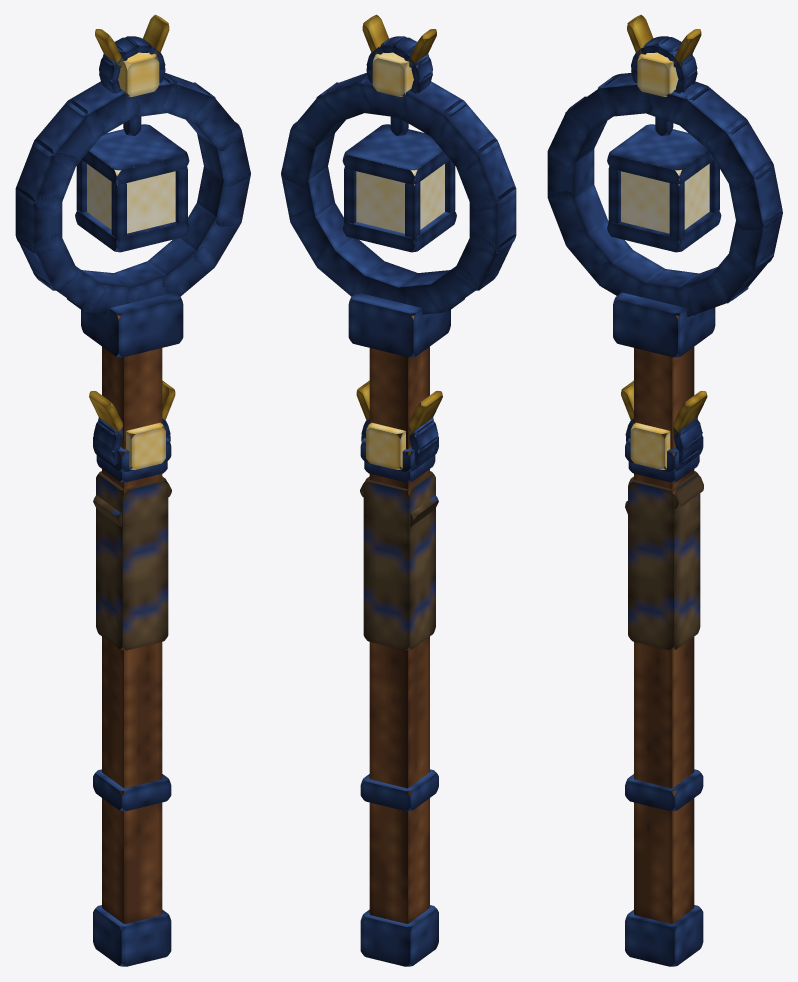
File: ankh_staff.obj
The picture shows the model from 3 angles, left to right: view 1: azimuth 30°, elevation 25°; view 2: azimuth 150°, elevation 25°; view 3: azimuth 330°, elevation 25°; orthographic projection.
Parts seen in each view (by area): view 1: lit, fire; view 2: lit, fire; view 3: lit, fire.
Boxes of the visible parts, x1,y1,x2,y2 form: lit: [15, 14, 250, 966]; fire: [87, 52, 178, 469]; lit: [281, 14, 516, 966]; fire: [353, 52, 444, 469]; lit: [547, 15, 782, 966]; fire: [621, 52, 709, 469].
Size of the model in its own units: 0.7148 by 2.9 by 0.2375.
